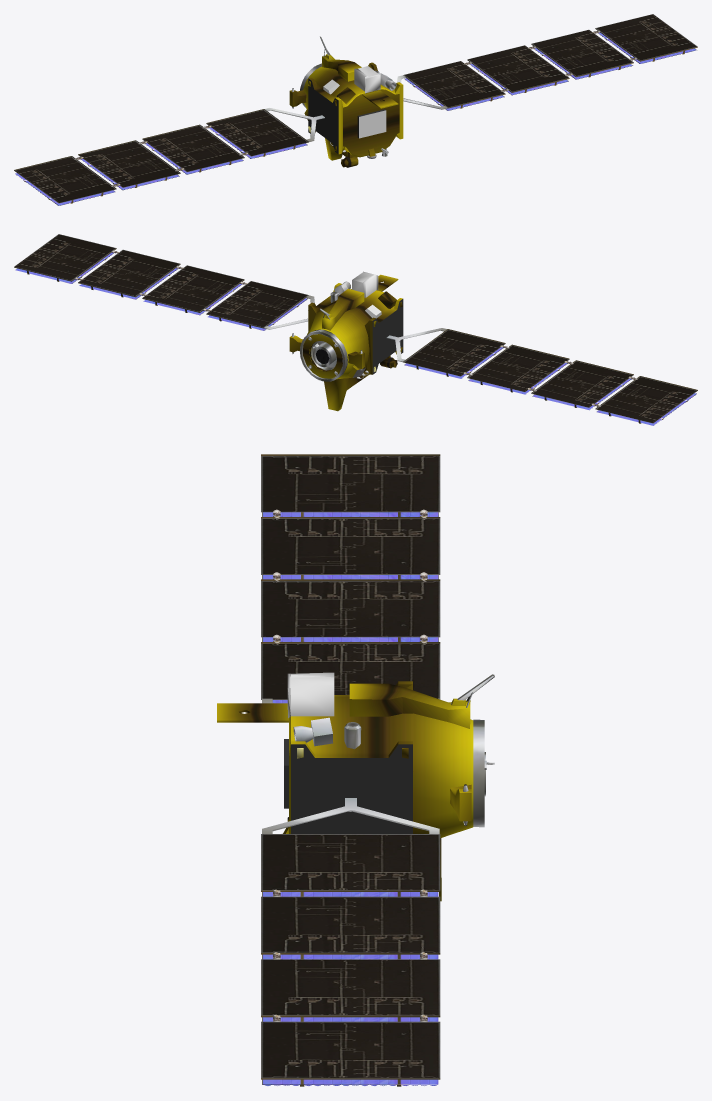
3 renders of one model, top to bottom at view 1: azimuth 30°, elevation 25°; view 2: azimuth 150°, elevation 25°; view 3: azimuth 270°, elevation 25°, orthographic. The views are drawn at different scales.
Visible parts, largest first — view 1: ds1_lod1; view 2: ds1_lod1; view 3: ds1_lod1.
Boxes of the visible parts, box(x1,y1,x2,y2) form: ds1_lod1: box(14, 14, 697, 205); ds1_lod1: box(14, 234, 697, 425); ds1_lod1: box(217, 454, 494, 1086).
Size of the model in its own units: 11.75 by 1.95 by 2.21.
5 materials, 3 textured.
